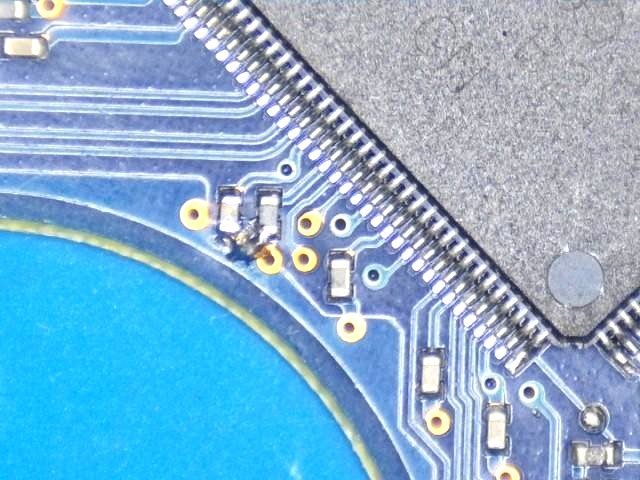pcb_defect: (220, 216, 275, 243)
